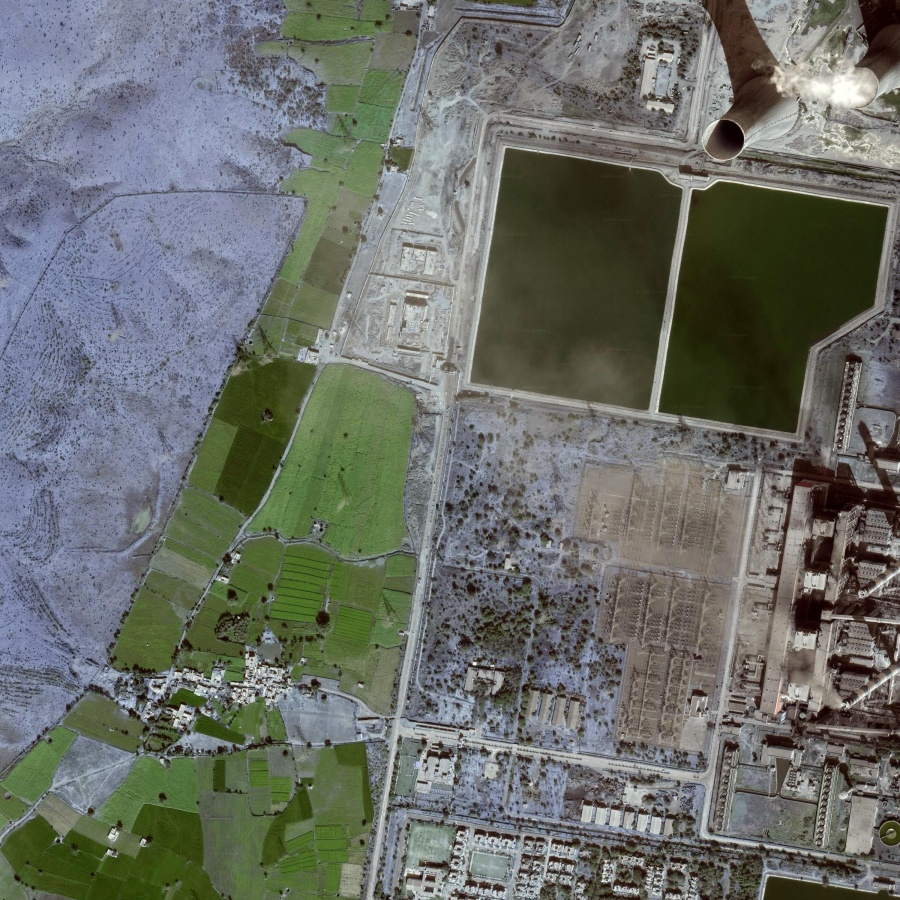PowerPlant: (457, 143, 896, 451)
